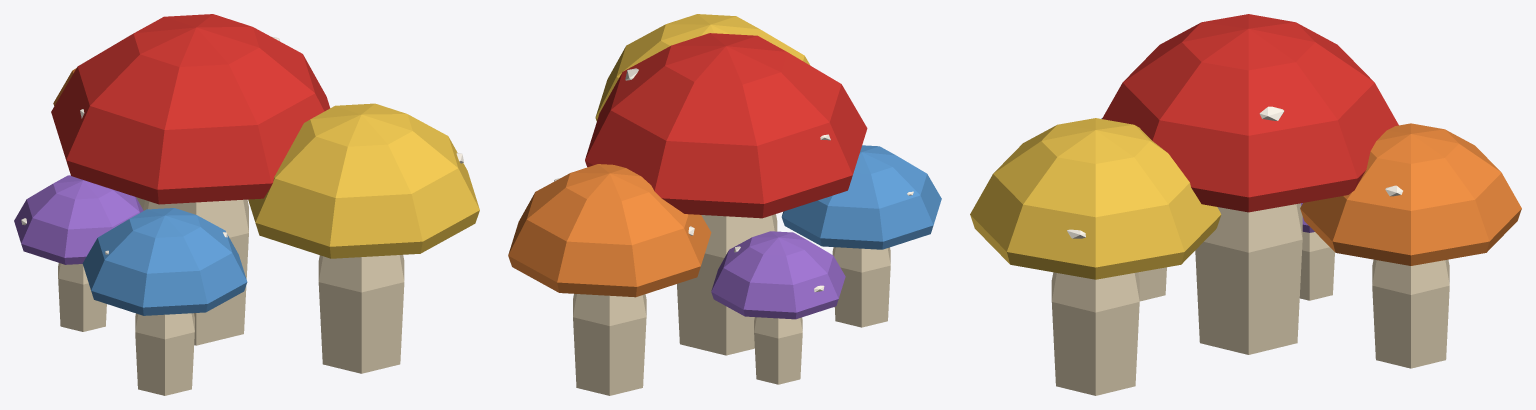
Rendered from nat_mushroom_group_v01.glb.
3 views of the same model, side by side, from view 1: azimuth 30°, elevation 25°; view 2: azimuth 150°, elevation 25°; view 3: azimuth 270°, elevation 25° (orthographic). The views are drawn at different scales.
Parts seen in each view (by area): view 1: mushroom_group; view 2: mushroom_group; view 3: mushroom_group.
Boxes of the visible parts, box(x1,y1,x2,y2) form: mushroom_group: box(14, 14, 479, 395); mushroom_group: box(508, 14, 941, 395); mushroom_group: box(970, 14, 1521, 395).
Bounding box in the file's own units: 0.4831 × 0.3825 × 0.6325.
